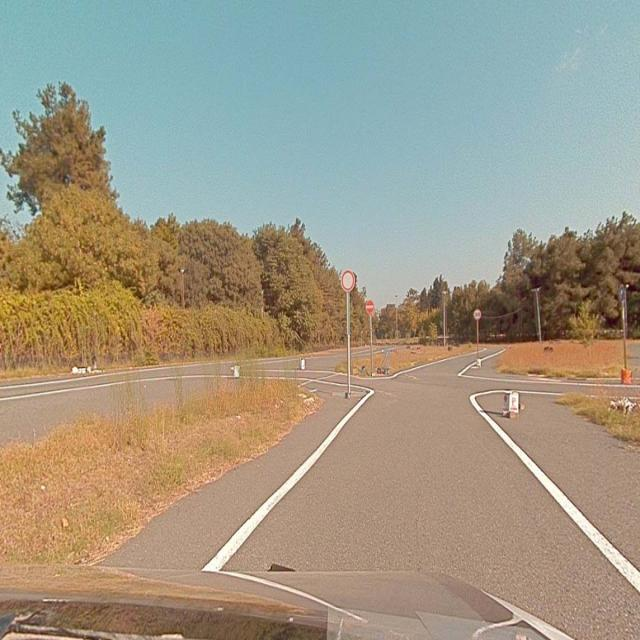girisyok: (365, 300, 373, 314)
